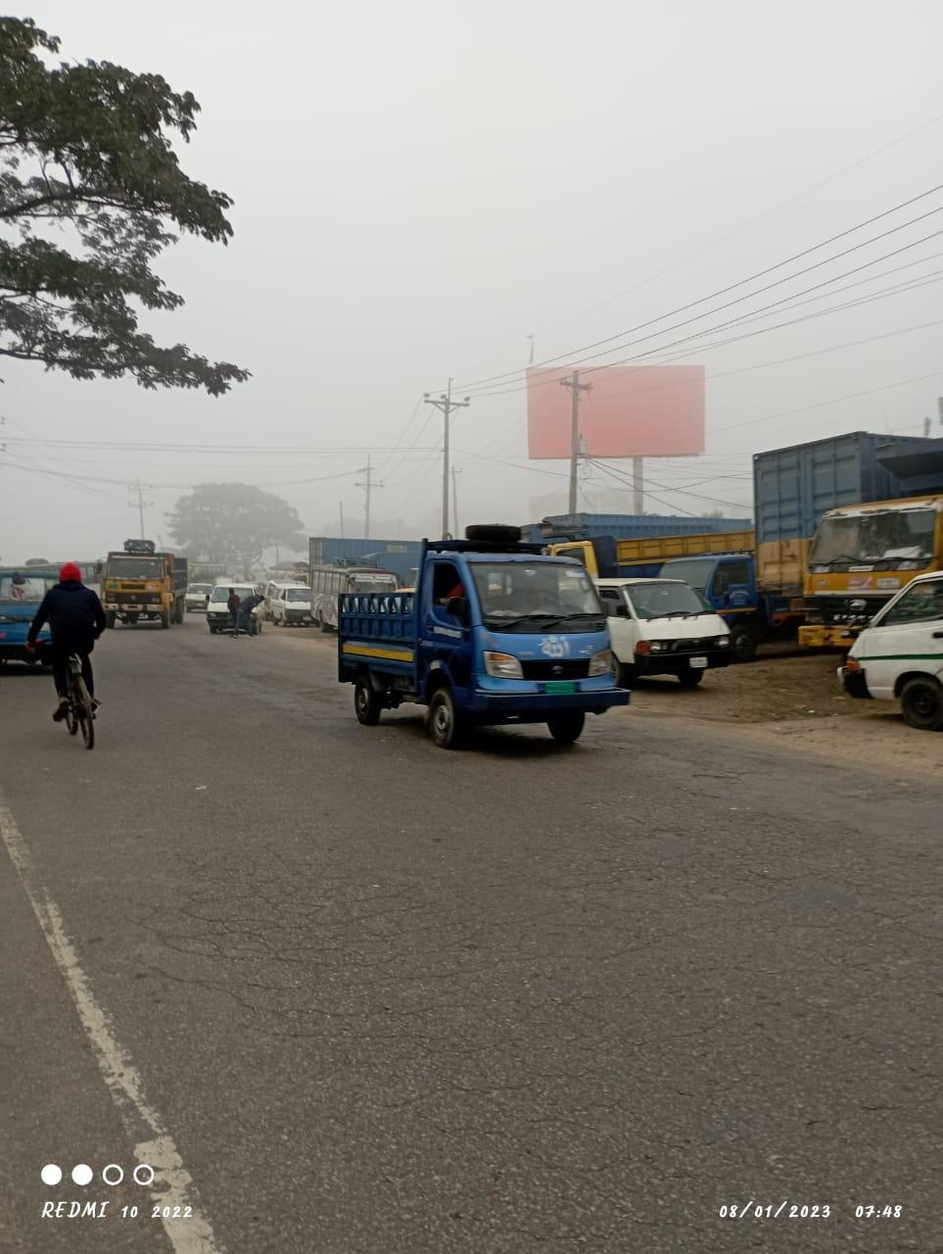Car: (600, 561, 740, 693), (831, 567, 943, 729), (202, 581, 264, 631)
Truck: (331, 525, 629, 765), (738, 430, 870, 597), (801, 497, 943, 639), (91, 533, 193, 627)
